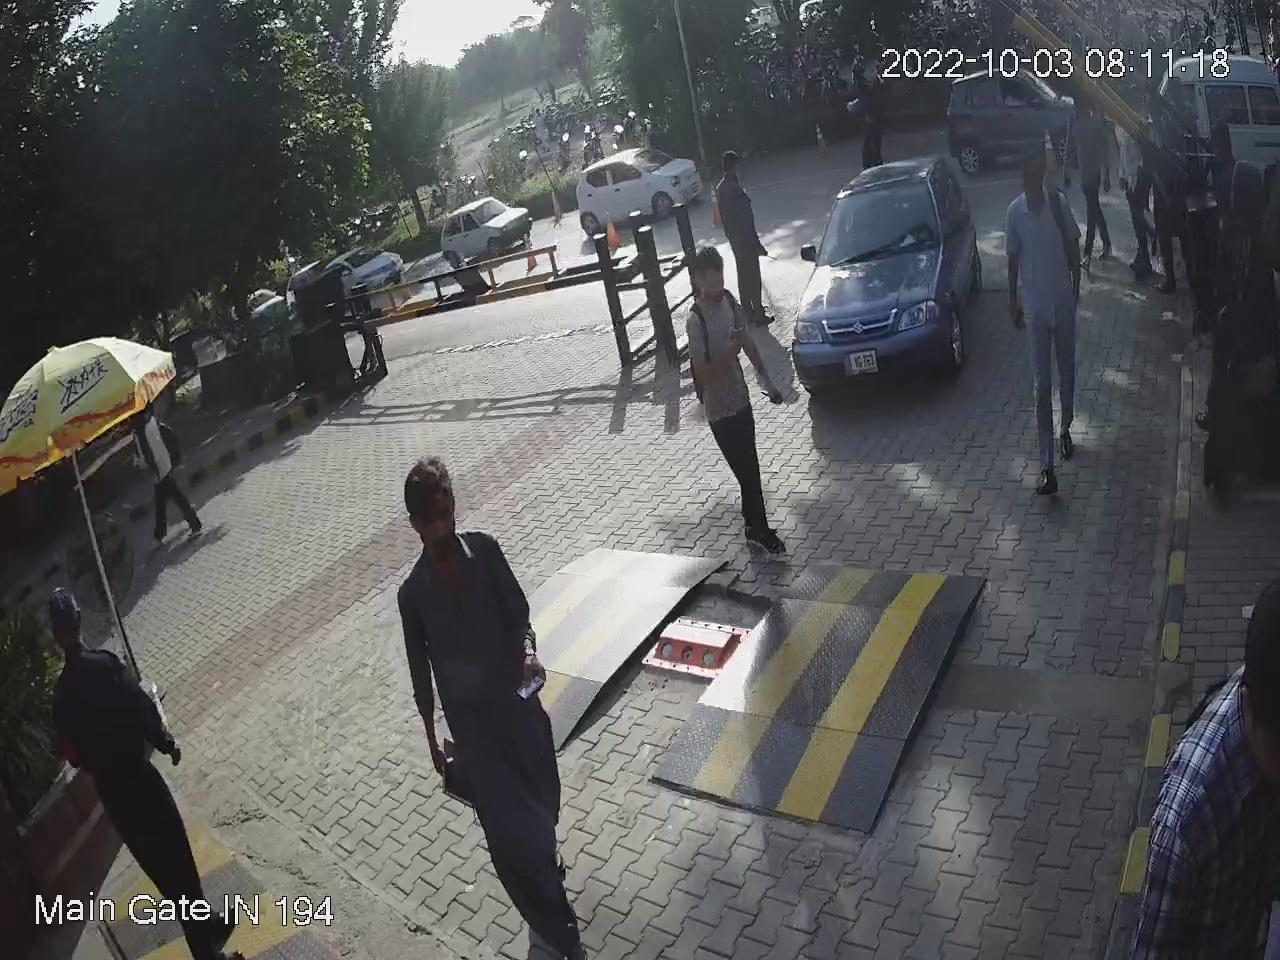windshield: (815, 162, 942, 267)
